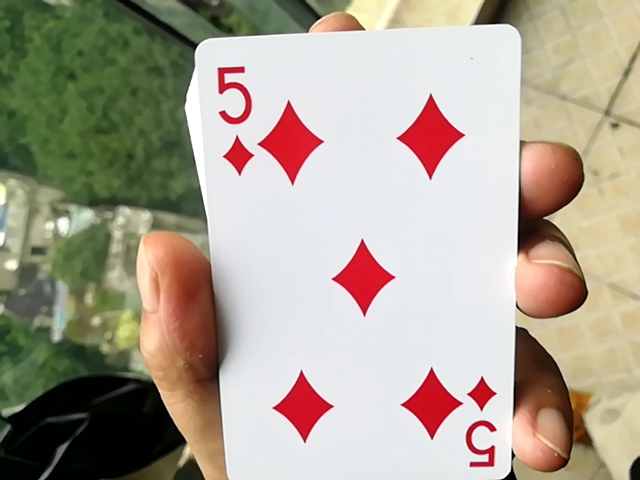fk 5: (170, 12, 517, 474)
